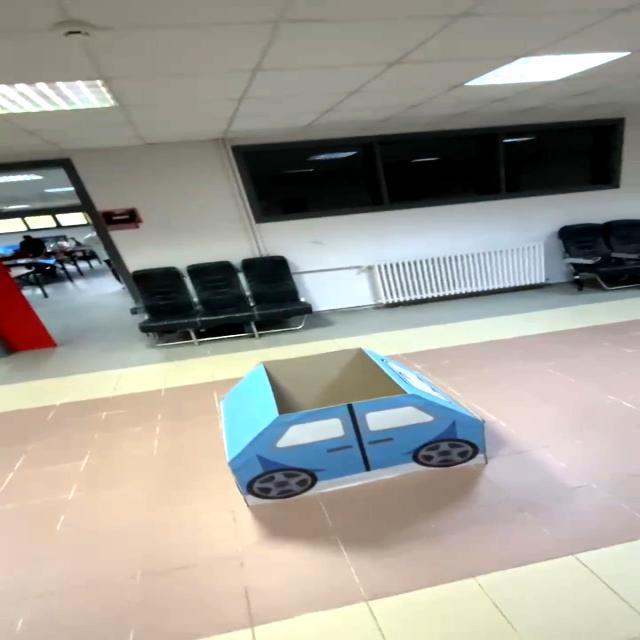blue_car: (192, 336, 521, 511)
